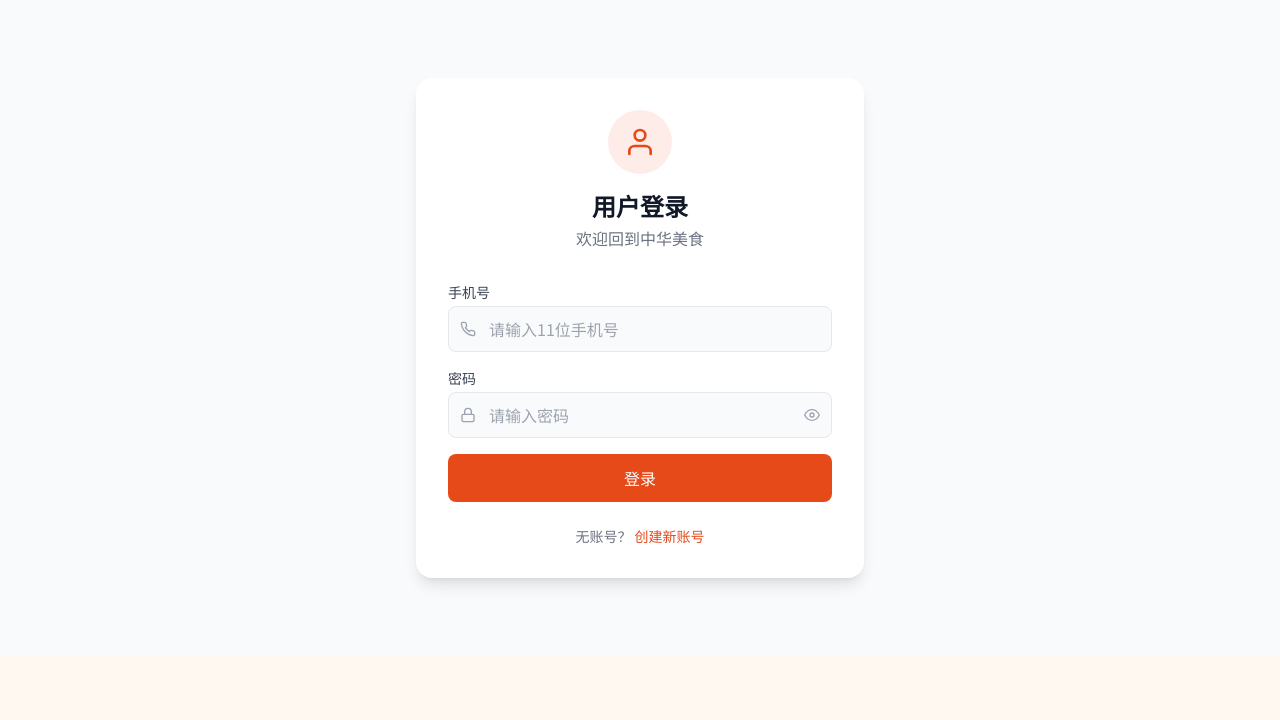
Test: AuthPage › Login Mode › should show error for empty password
Type "13800138000" into the field with placeholder "请输入11位手机号".
click(640, 329); type("13800138000")  # box top-left (448, 306), bottom-right (832, 352)
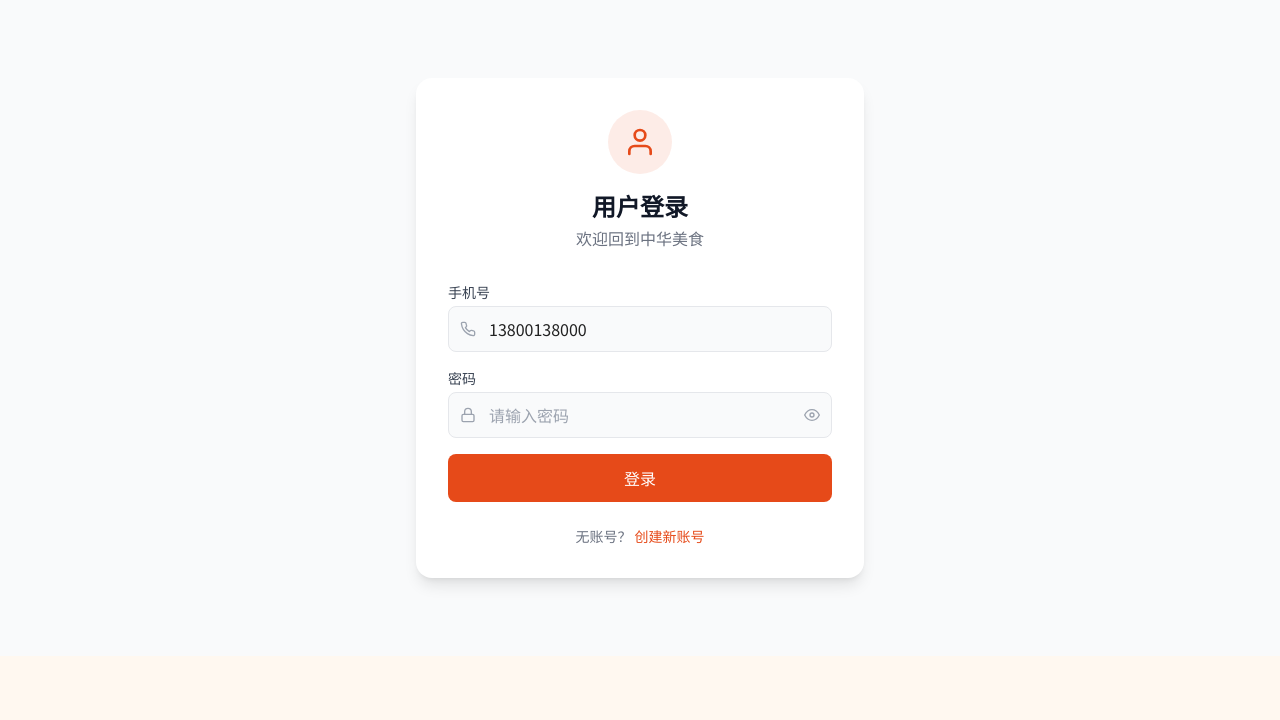
Click the button "登录".
click(640, 478)  # box top-left (448, 454), bottom-right (832, 502)
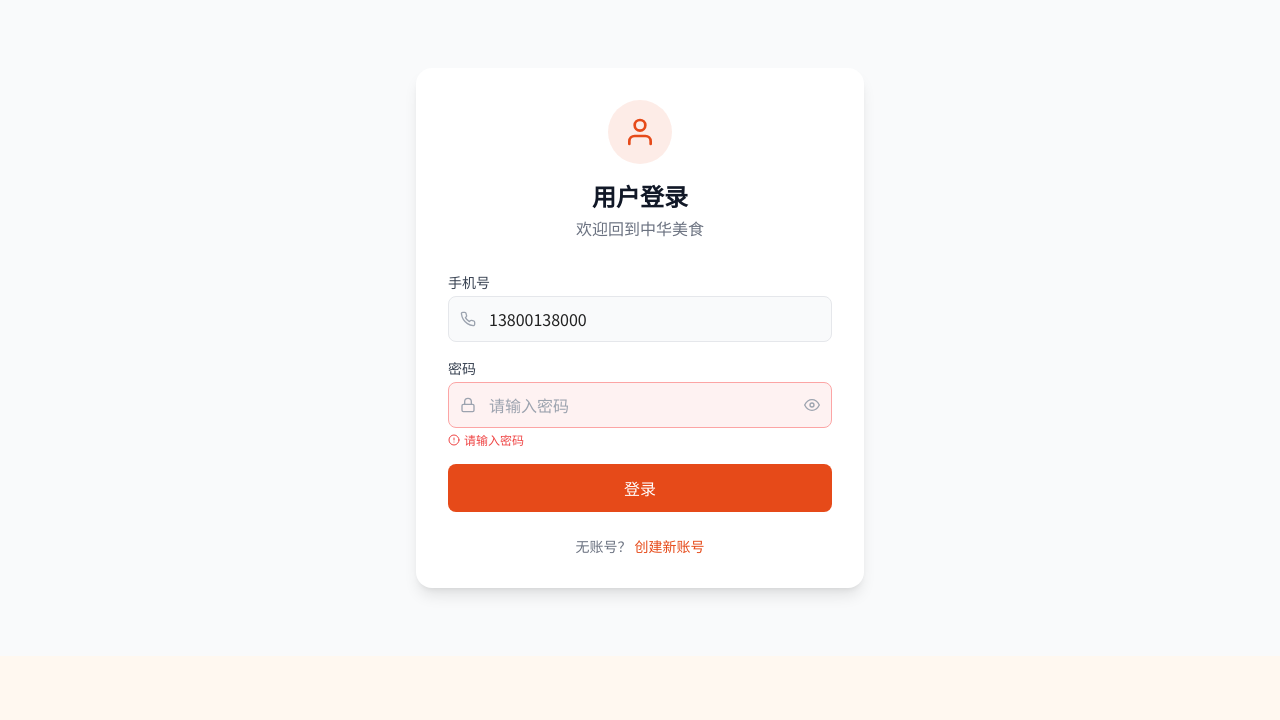
Expected: the text "请输入密码" is shown, top-left (448, 431), bottom-right (524, 448)
